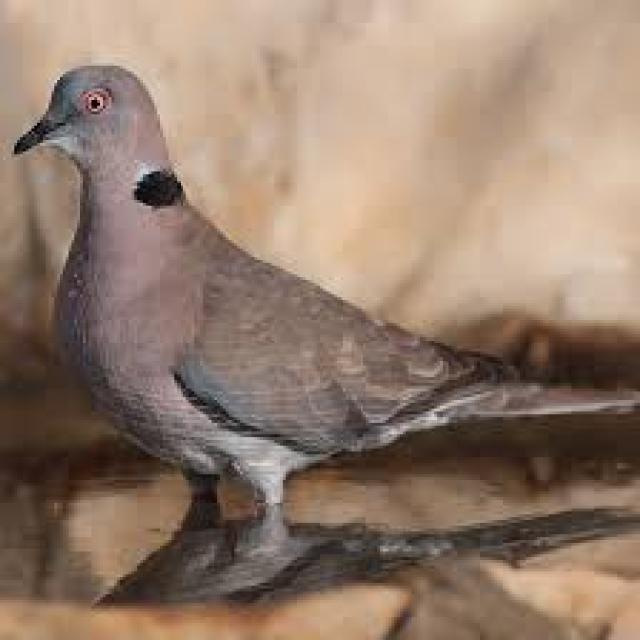pigeon: (4, 42, 640, 528)
